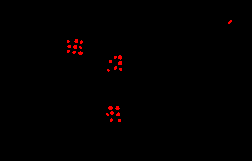Target: (78, 51, 83, 55), (118, 55, 122, 60), (108, 106, 113, 110), (115, 106, 120, 110), (228, 20, 232, 24), (74, 39, 78, 43), (73, 45, 77, 49), (118, 61, 122, 65), (110, 111, 114, 115), (116, 112, 120, 116), (80, 40, 83, 44), (67, 45, 71, 48), (72, 51, 76, 54), (114, 66, 117, 70), (110, 118, 113, 122), (67, 40, 70, 43), (79, 46, 82, 49), (67, 50, 70, 53), (114, 56, 117, 59), (109, 60, 112, 63), (119, 68, 122, 71), (107, 69, 110, 72), (106, 113, 109, 116), (118, 119, 121, 122)
